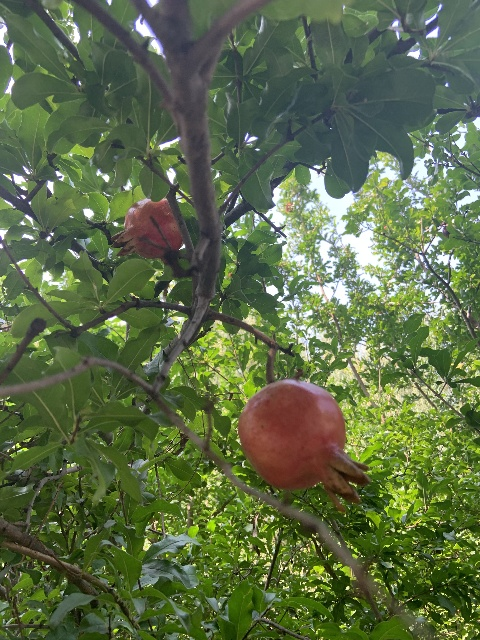ripe: (237, 378, 370, 512), (110, 198, 183, 258)
